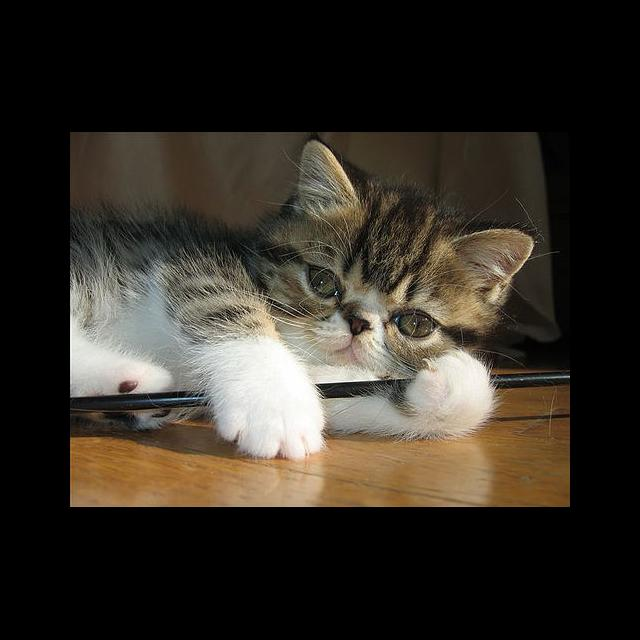animals: (293, 138, 530, 334)
